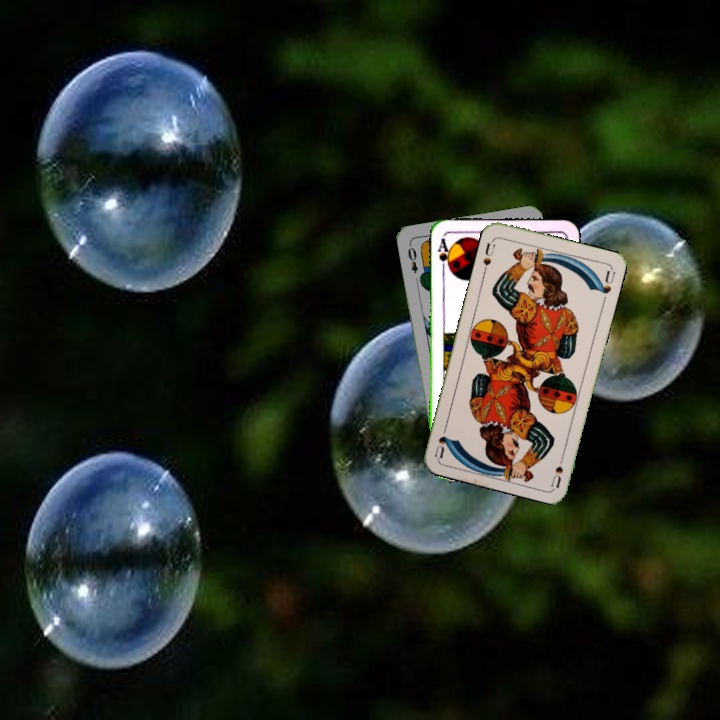EO: (403, 240, 420, 276)
SA: (434, 234, 453, 274)
SU: (547, 448, 567, 489), (479, 239, 497, 275)
